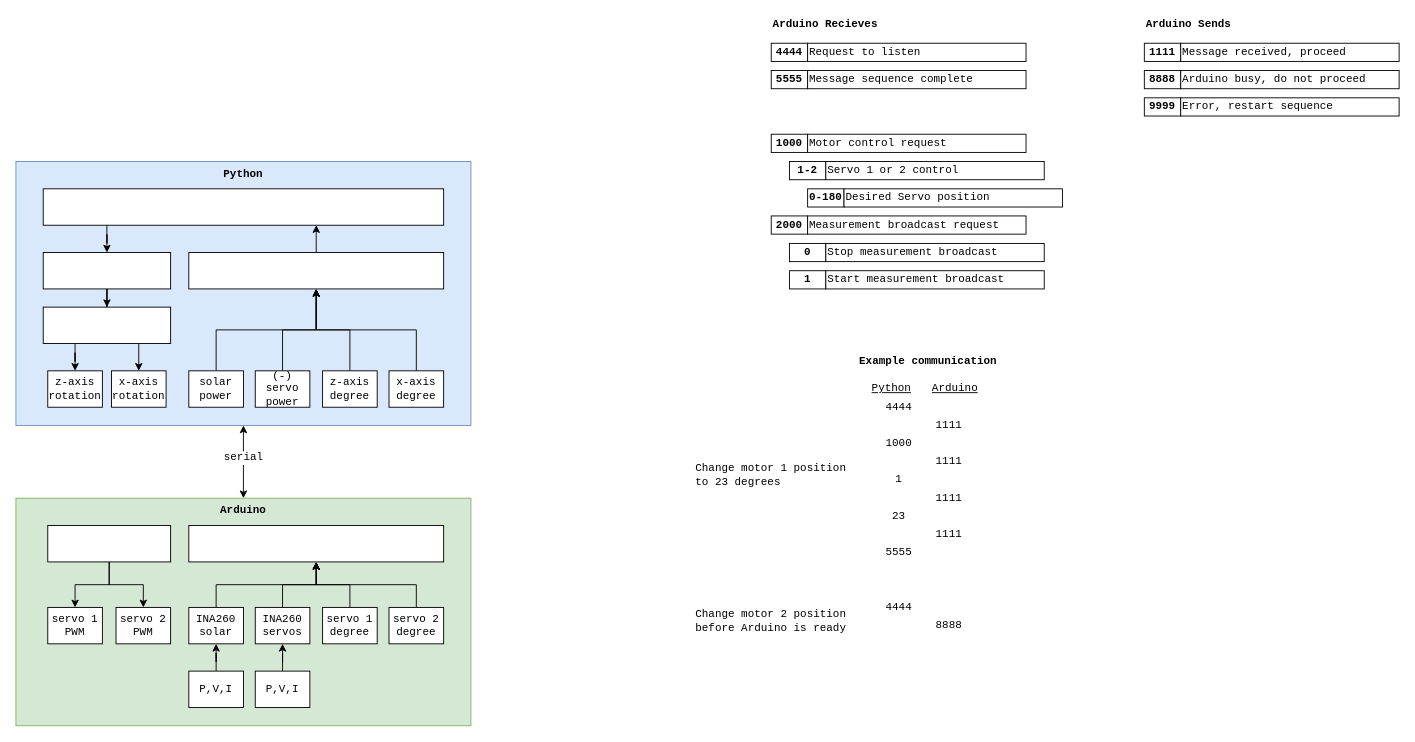
The diagram is 1415 pixels wide and 742 high, and some of its shapes have lost their labels. The shapes that lost their labels are listed below. From the top down, each one's centre as x and y in pixels, then its label:
the point at 243,206: RL agent
the point at 106,270: actions
the point at 316,270: state
the point at 106,325: change panel position
the point at 109,543: Arduino actions
the point at 316,543: Arduino data
